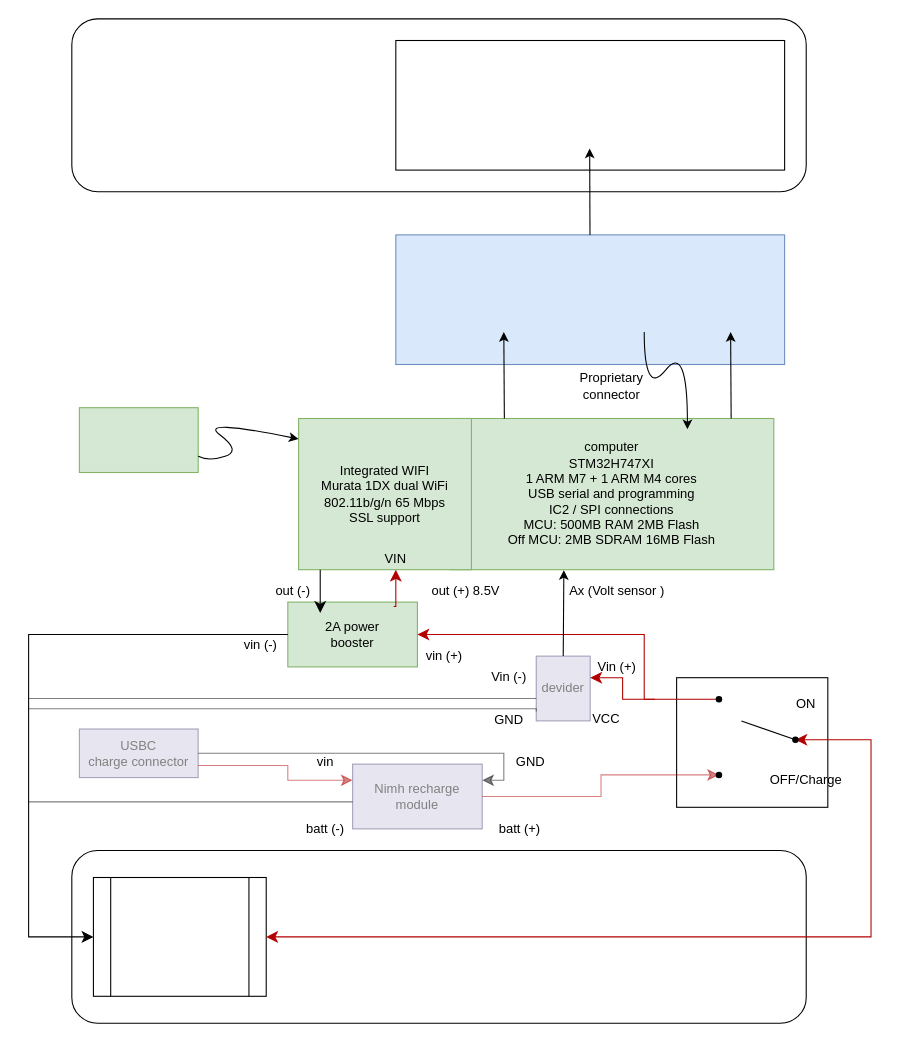
This 902x1042 diagram has some shape labels left out. Each missing label, with the box of its shape:
3 X AA Nimh battery 1.2V 2000mAhr = 6hrs run time: (92, 876, 266, 996)
RTC clock with 2032 battery: (78, 407, 198, 473)
Screen, GIGA display DSI 3.97” 480 x 800 pixels touch sensor: (395, 234, 785, 364)
